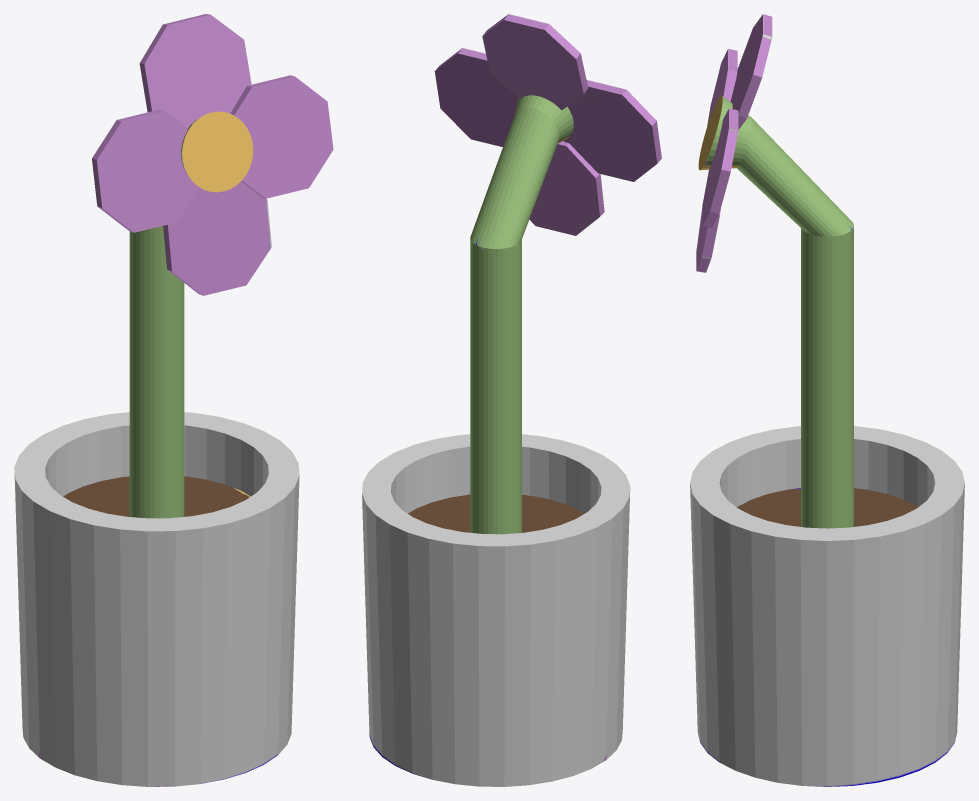
Rendered from kwiatek.glb.
The picture shows the model from 3 angles, left to right: view 1: azimuth 30°, elevation 25°; view 2: azimuth 150°, elevation 25°; view 3: azimuth 270°, elevation 25°; orthographic projection. The views are drawn at different scales.
Parts seen in each view (by area): view 1: Cube.051; view 2: Cube.051; view 3: Cube.051.
Boxes of the visible parts, left/top/right/bottom form: Cube.051: left=14, top=14, right=333, bottom=786; Cube.051: left=362, top=14, right=661, bottom=786; Cube.051: left=690, top=14, right=964, bottom=786.
Size of the model in its own units: 0.2045 by 0.5804 by 0.2045.
1 material, 1 textured.
